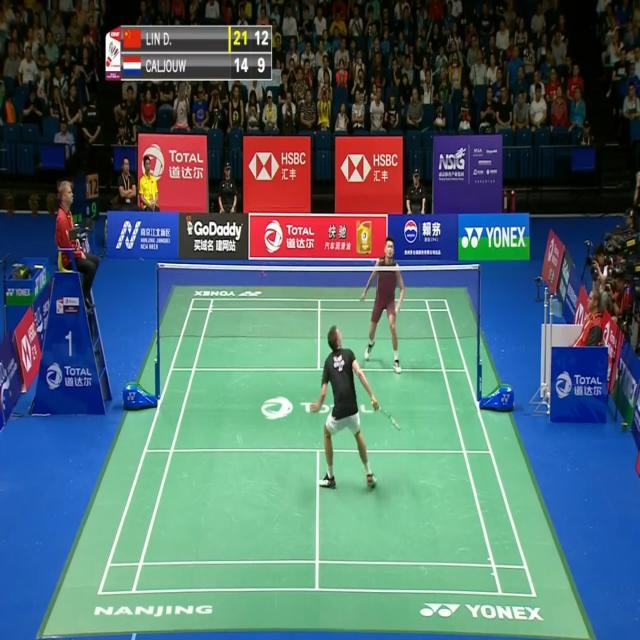Player1: (306, 317, 406, 514)
Player2: (354, 228, 408, 388)
